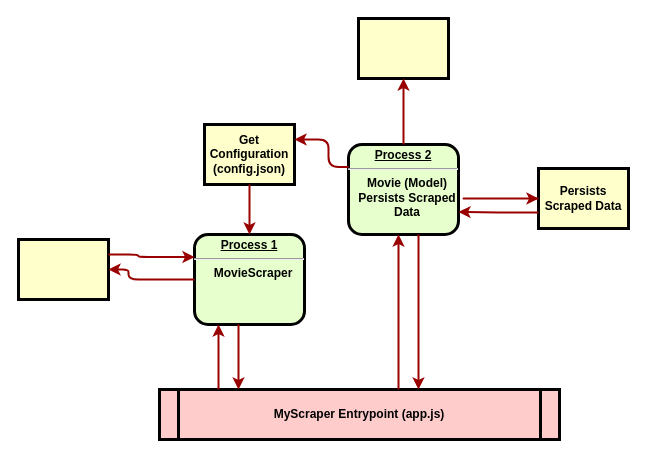
Some shapes in this 647 by 458 pixel diagram are drawn without their labels. Each missing label, with the centre of its shape:
Creates DB Table if does not exist: the point at 403,48
htmlFetcher (retrieve raw HTML): the point at 63,269
